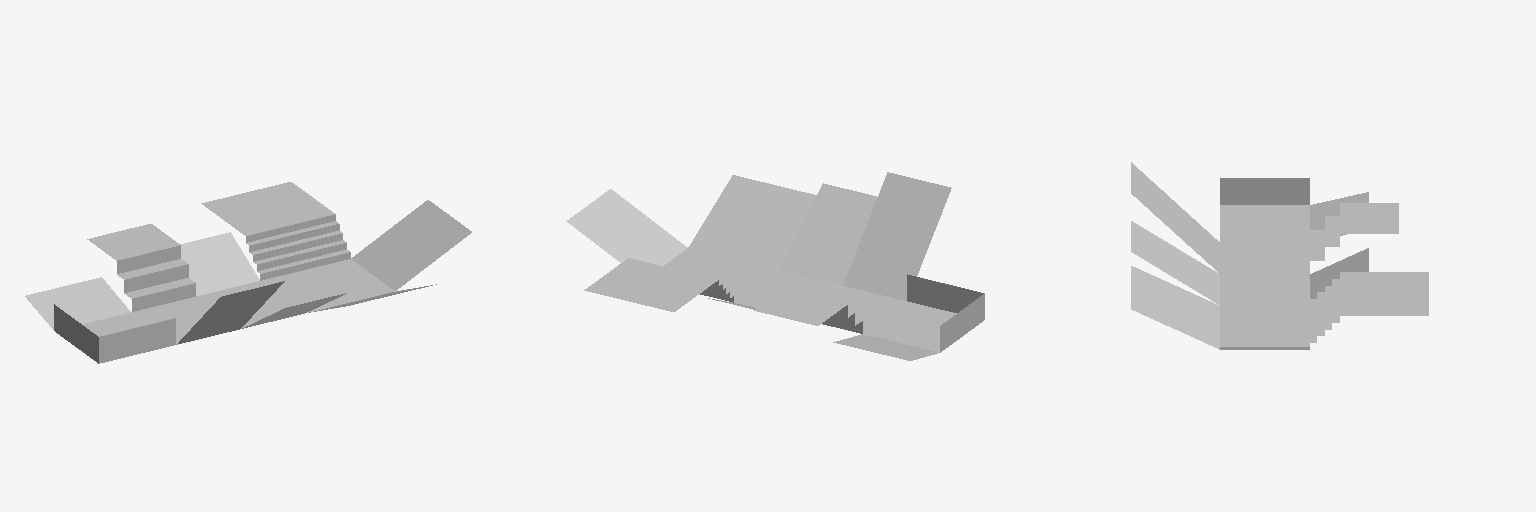
File: character-test.obj
3 renders of one model, left to right at view 1: azimuth 30°, elevation 25°; view 2: azimuth 150°, elevation 25°; view 3: azimuth 270°, elevation 25°, orthographic.
Parts seen in each view (by area): view 1: Cube.001; view 2: Cube.001; view 3: Cube.001.
Boxes of the visible parts, x1,y1,x2,y2 form: Cube.001: [25, 182, 471, 363]; Cube.001: [566, 172, 984, 360]; Cube.001: [1131, 162, 1428, 349].
Size of the model in its own units: 29 by 6 by 20.